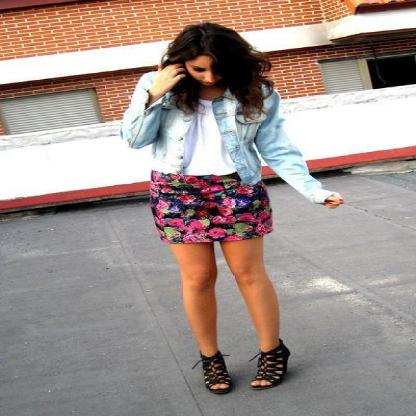jacket: (112, 75, 336, 201)
shirt: (188, 98, 244, 174)
shoe: (200, 341, 289, 402)
skirt: (127, 167, 272, 247)
